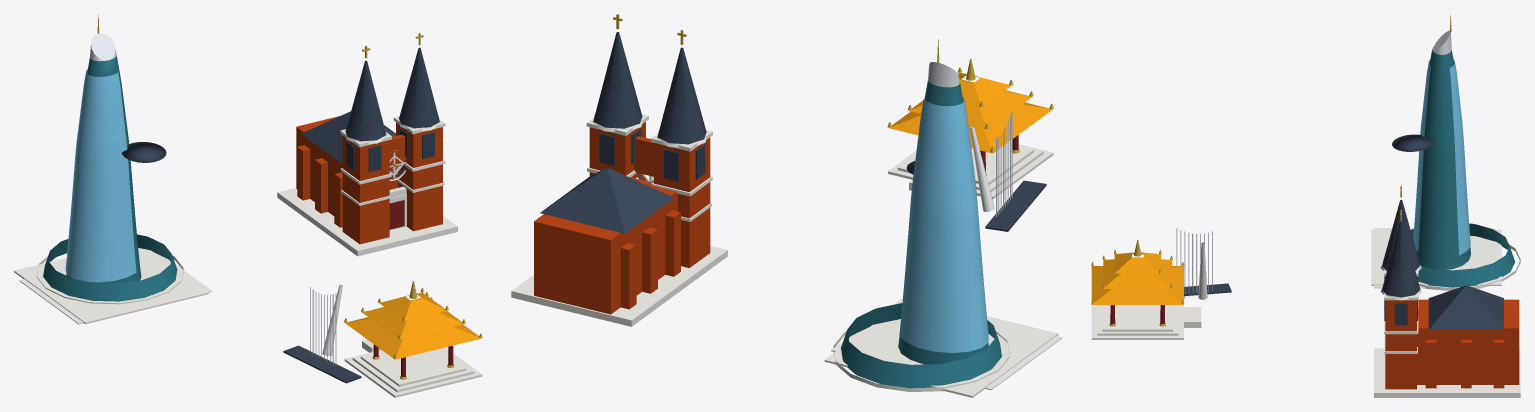
Rendered from landmarks_cluster.glb.
3 views of the same model, side by side, from view 1: azimuth 30°, elevation 25°; view 2: azimuth 150°, elevation 25°; view 3: azimuth 270°, elevation 25° (orthographic). The views are drawn at different scales.
Visible parts, largest first — view 1: Landmarks_Cluster; view 2: Landmarks_Cluster; view 3: Landmarks_Cluster.
Part boxes in pixels (bbox=[...]): Landmarks_Cluster: bbox=[14, 14, 482, 397]; Landmarks_Cluster: bbox=[511, 14, 1062, 397]; Landmarks_Cluster: bbox=[1091, 14, 1520, 397].
Bounding box in the file's own units: 7.37 × 5.08 × 7.91.
